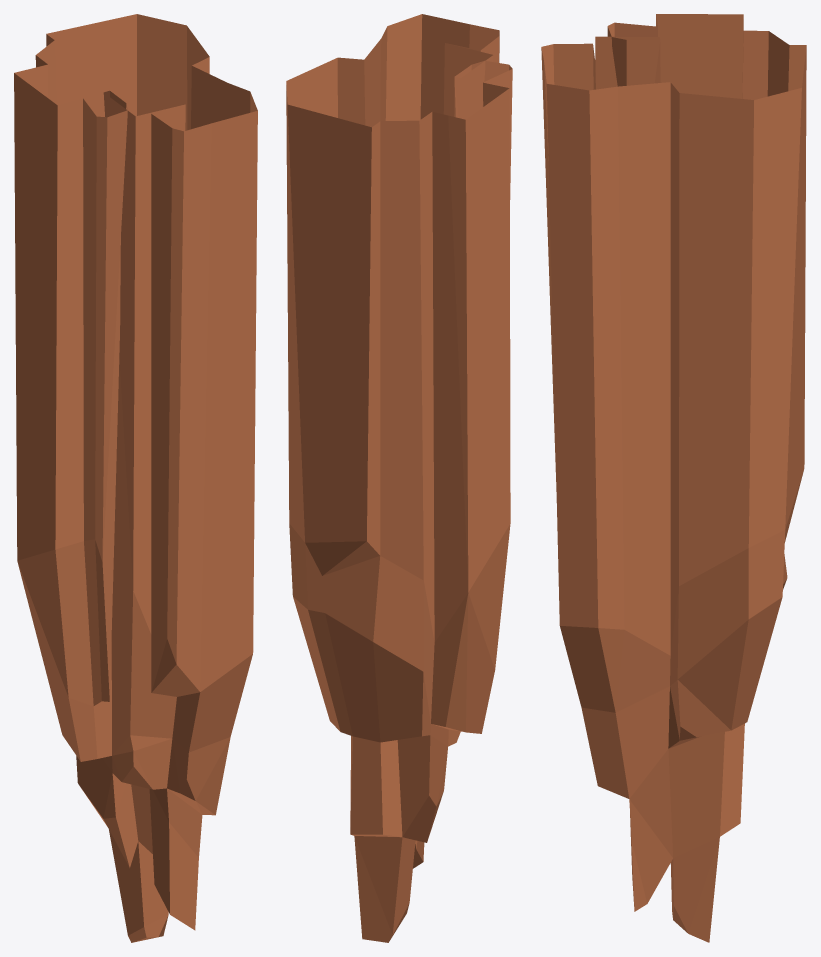
File: Stalactite_1.fbx
3 views of the same model, side by side, from view 1: azimuth 30°, elevation 25°; view 2: azimuth 150°, elevation 25°; view 3: azimuth 270°, elevation 25° (orthographic). The views are drawn at different scales.
Visible parts, largest first — view 1: Stalactite_1; view 2: Stalactite_1; view 3: Stalactite_1.
Boxes of the visible parts, x1=… form: Stalactite_1: x1=14, y1=14, x2=257, y2=942; Stalactite_1: x1=286, y1=14, x2=512, y2=942; Stalactite_1: x1=541, y1=14, x2=806, y2=942.
Size of the model in its own units: 274 by 1276 by 353.
